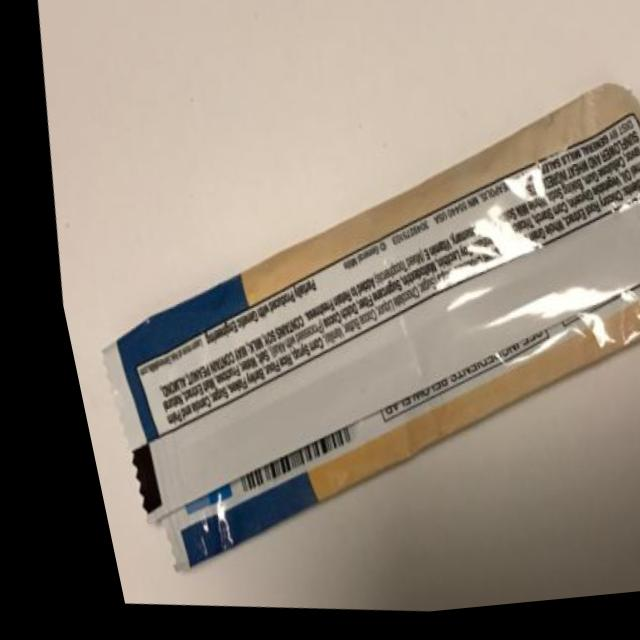trash: (11, 20, 640, 640)
